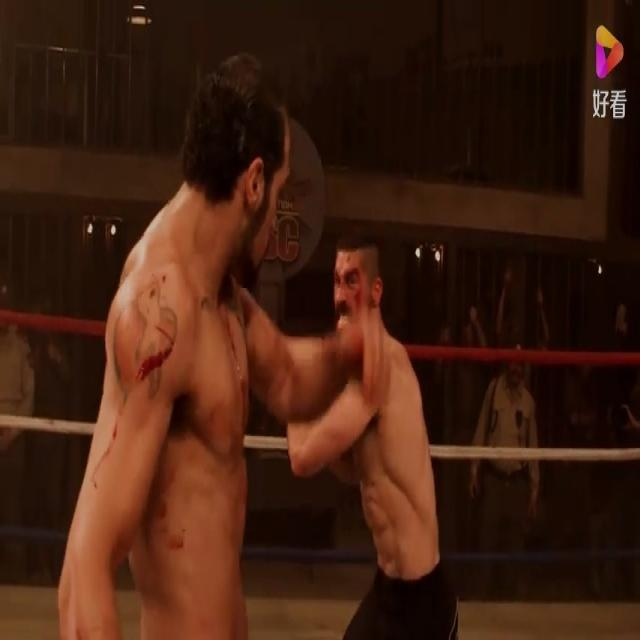fight: (50, 59, 458, 640)
